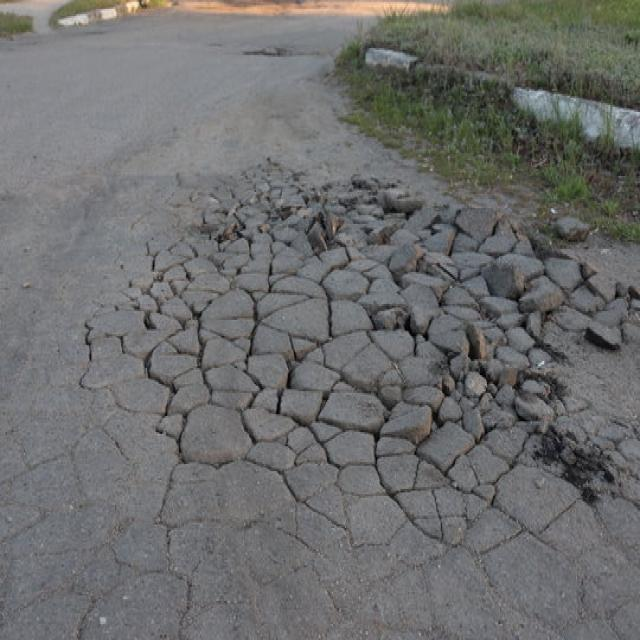Drain Hole: (84, 142, 640, 640)
